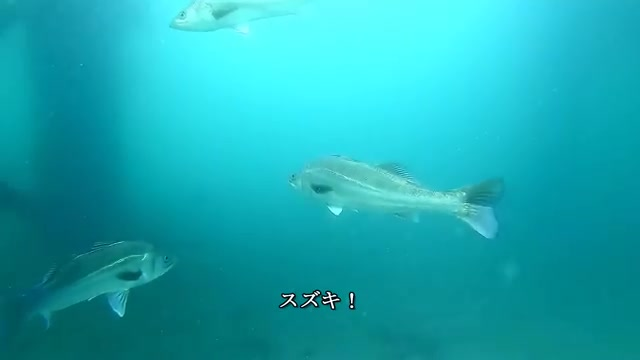suzuki: (279, 155, 504, 261), (1, 227, 197, 333)
